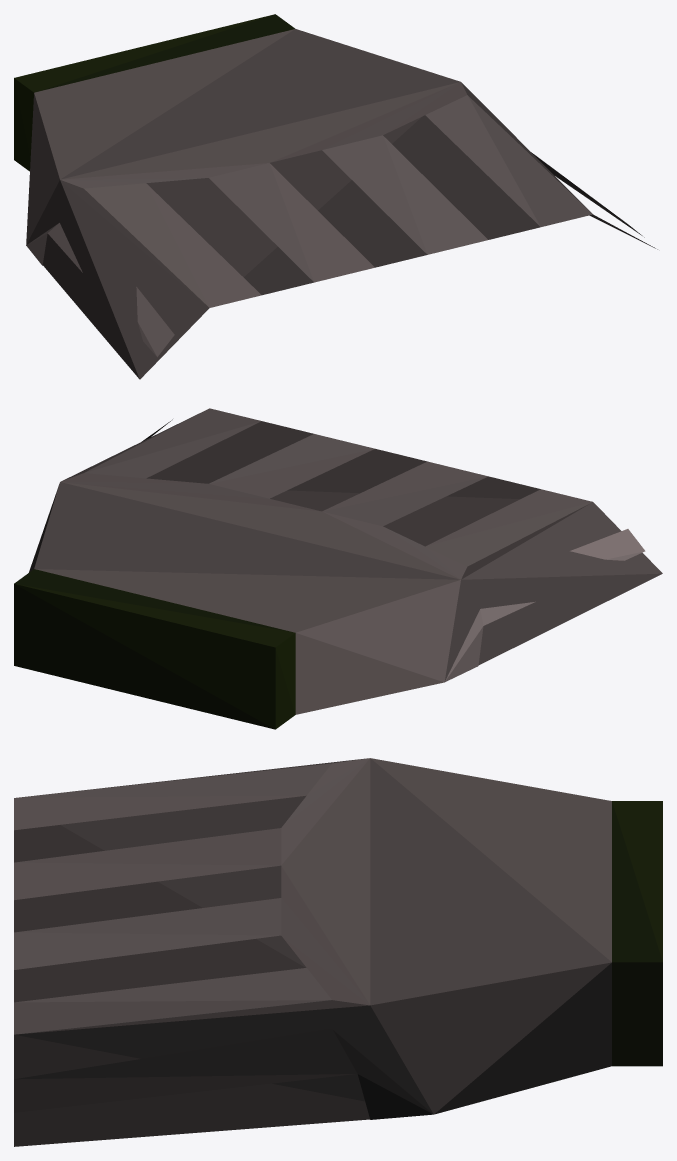
The model's file is steel-plateskirt.obj.
3 views of the same model, one above another, from view 1: azimuth 30°, elevation 25°; view 2: azimuth 150°, elevation 25°; view 3: azimuth 270°, elevation 25° (orthographic). The views are drawn at different scales.
Parts seen in each view (by area): view 1: Item Steel plateskirt 2026-09-24_18-12-33; view 2: Item Steel plateskirt 2026-09-24_18-12-33; view 3: Item Steel plateskirt 2026-09-24_18-12-33.
Part boxes in pixels (x1,y1,x2,y2): Item Steel plateskirt 2026-09-24_18-12-33: (14, 14, 657, 379); Item Steel plateskirt 2026-09-24_18-12-33: (14, 408, 662, 729); Item Steel plateskirt 2026-09-24_18-12-33: (14, 758, 662, 1146).
Bounding box in the file's own units: 60 × 9 × 51.
